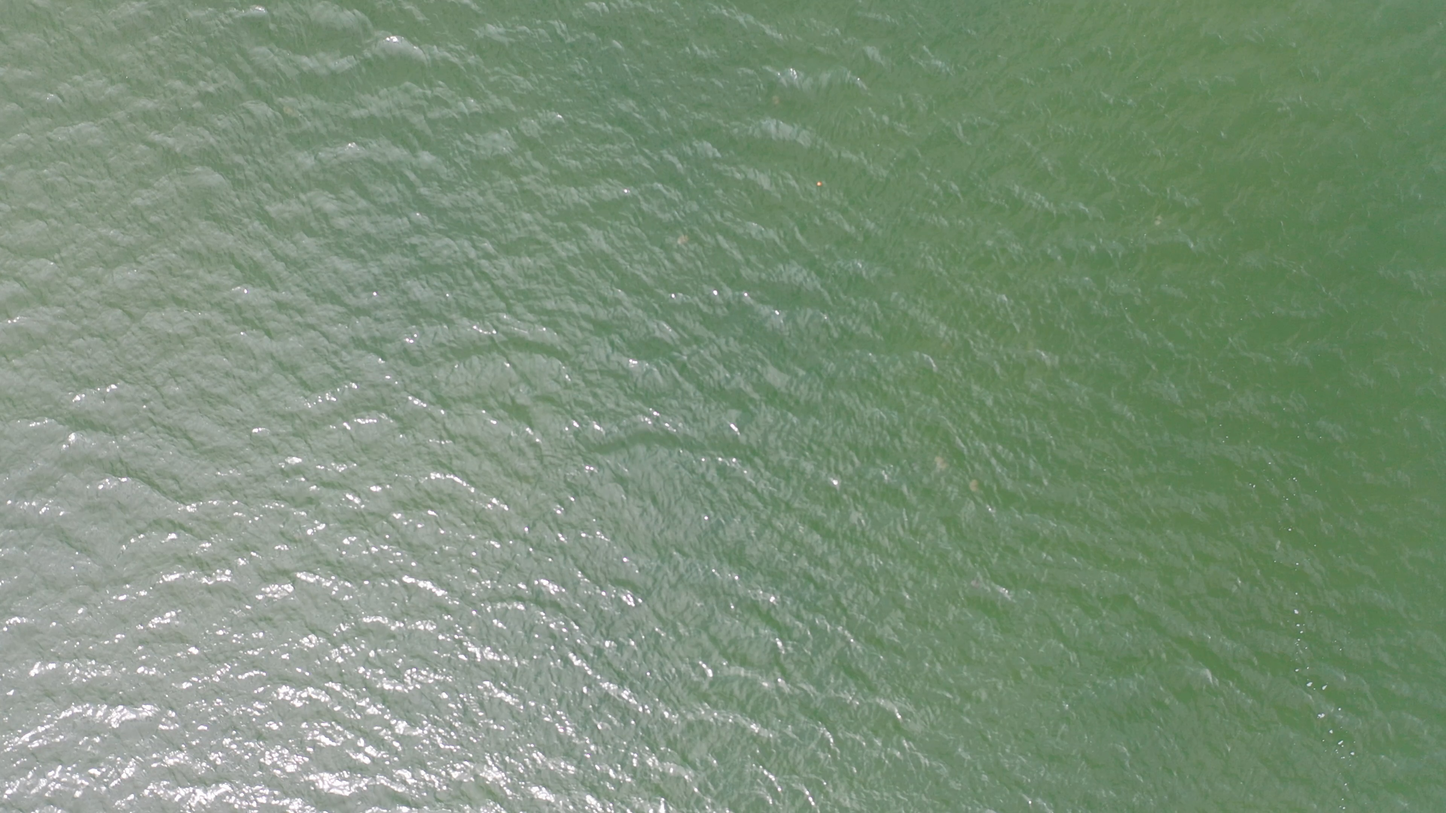meduse: (676, 234, 691, 244), (934, 458, 947, 469), (968, 481, 979, 493), (1153, 215, 1162, 226), (970, 580, 981, 588), (772, 94, 779, 104)
